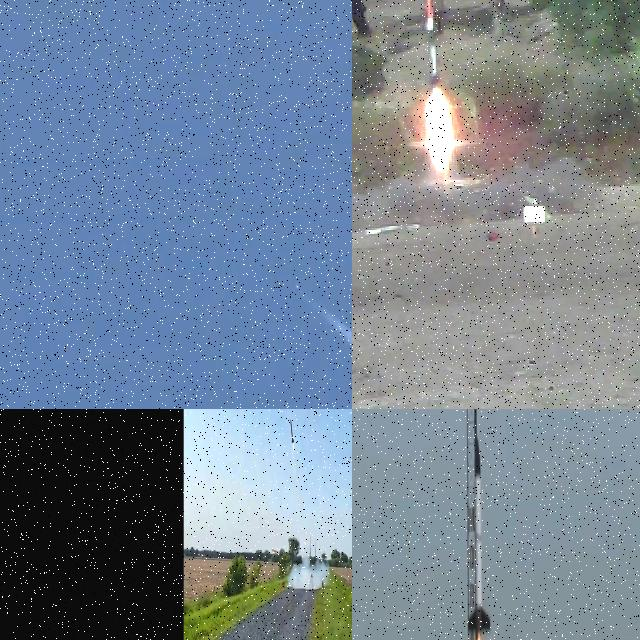Rocket: (468, 435, 491, 640), (425, 0, 439, 86), (291, 419, 294, 444), (296, 282, 300, 292)
